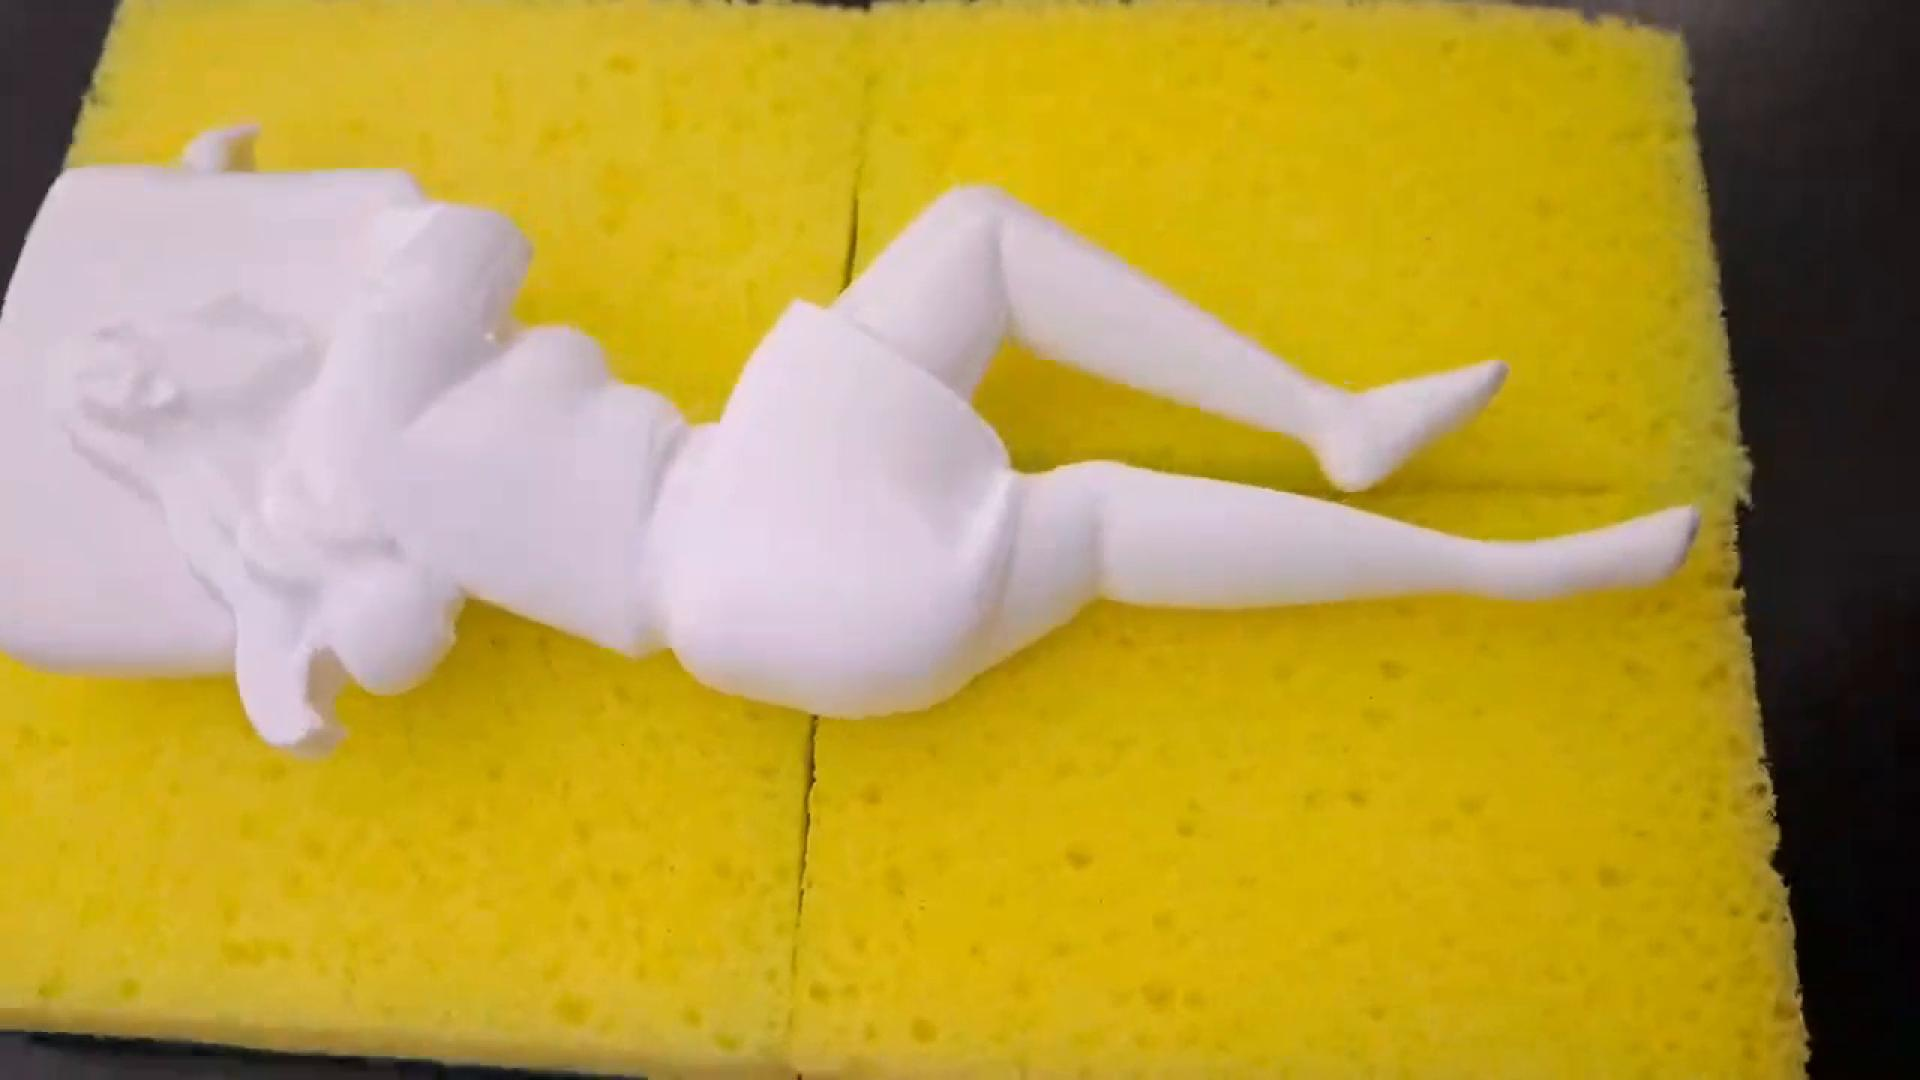Good-style: (0, 121, 1705, 760)
